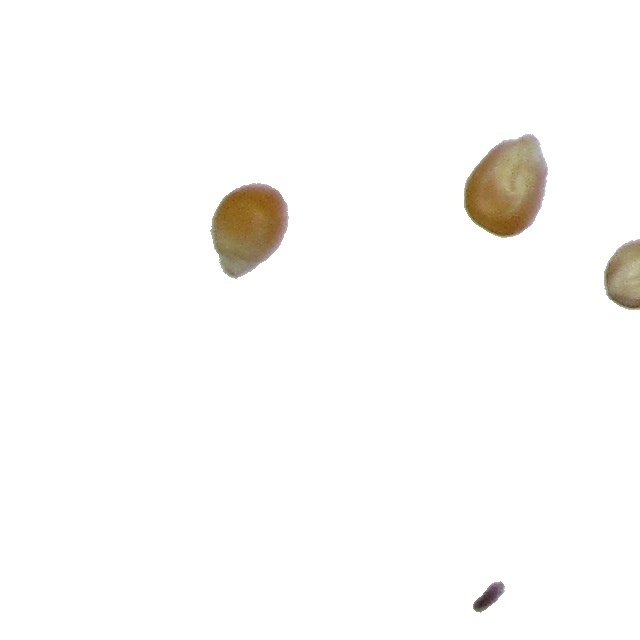mais: (463, 133, 549, 239), (209, 182, 290, 280), (603, 237, 640, 311)
other: (472, 580, 506, 614)
